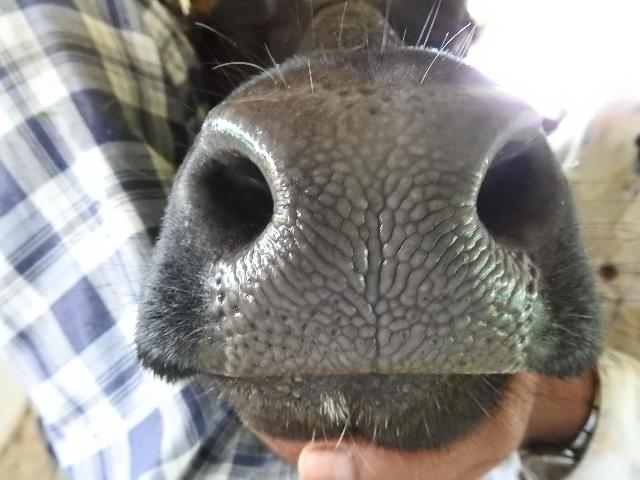Muzzle: (249, 104, 483, 371)
